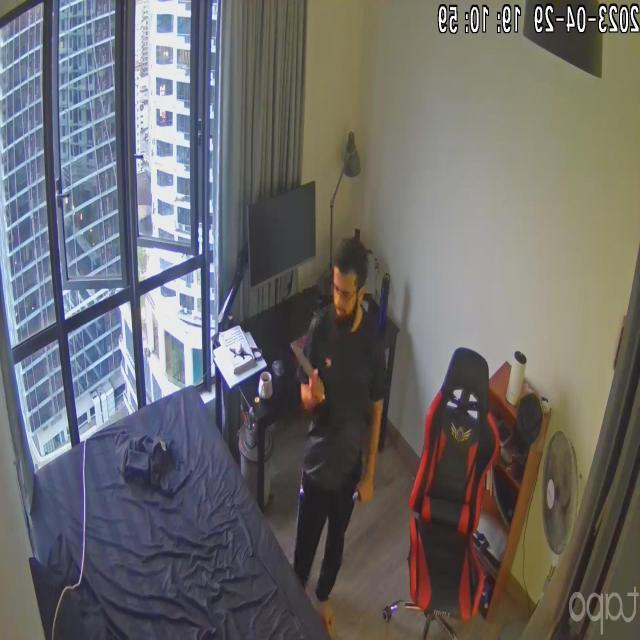Knife: (293, 344, 330, 401)
